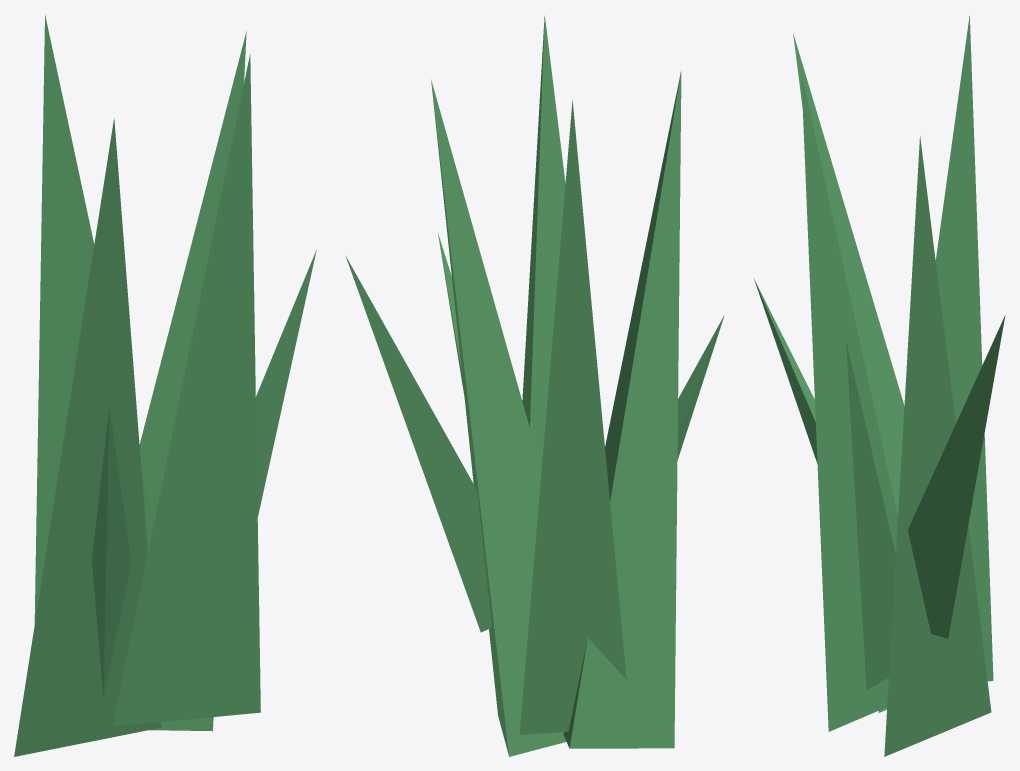
Rendered from Grass.fbx.
3 views of the same model, side by side, from view 1: azimuth 30°, elevation 25°; view 2: azimuth 150°, elevation 25°; view 3: azimuth 270°, elevation 25° (orthographic). The views are drawn at different scales.
Parts seen in each view (by area): view 1: Cone.043; view 2: Cone.043; view 3: Cone.043.
Boxes of the visible parts, x1,y1,x2,y2 form: Cone.043: (14, 15, 316, 756); Cone.043: (345, 15, 724, 756); Cone.043: (754, 15, 1005, 756).
Size of the model in its own units: 1.84 by 4.32 by 1.44.
